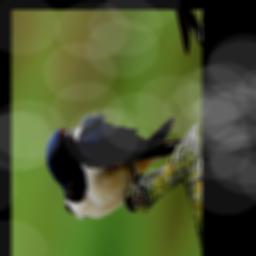Swallow: (35, 51, 188, 256)
